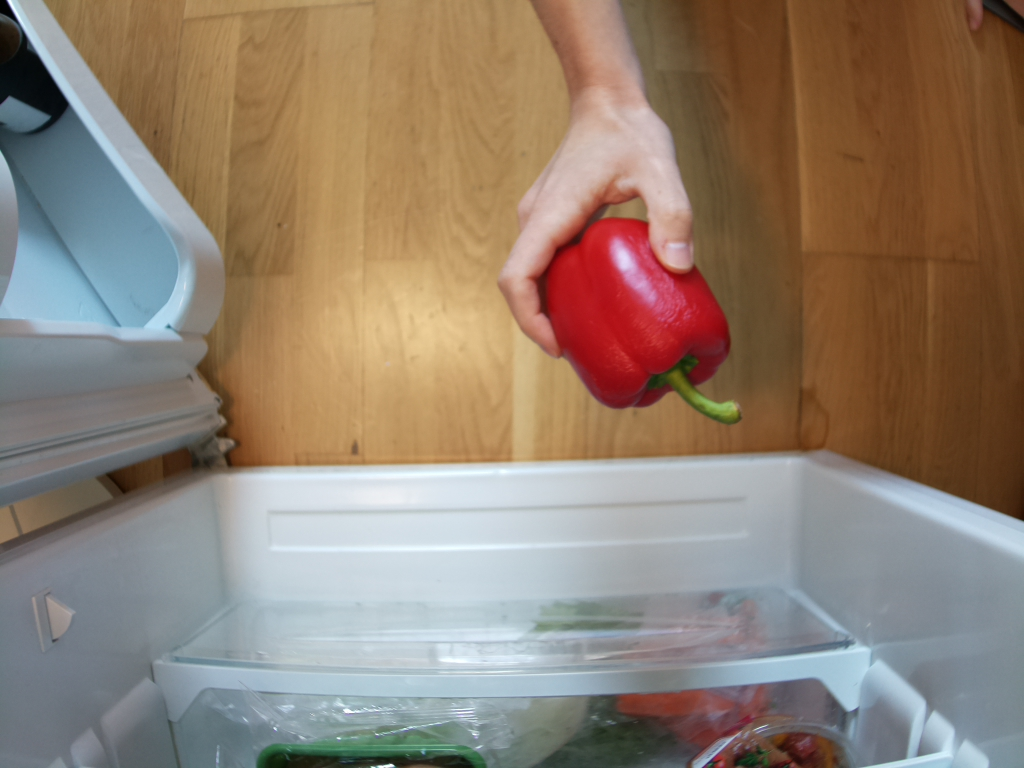pepper-bad: (536, 218, 757, 437)
